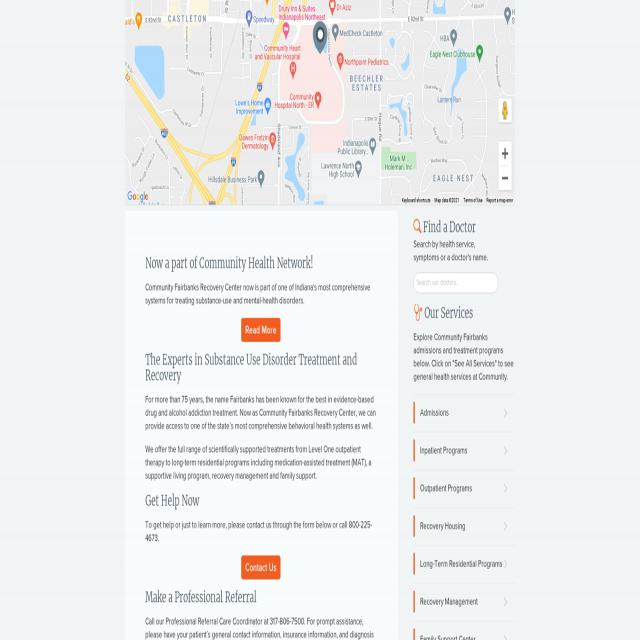button: (413, 394, 515, 432), (413, 432, 515, 470), (413, 470, 515, 508), (413, 508, 515, 546), (413, 546, 515, 584), (412, 586, 514, 624), (241, 555, 281, 580), (241, 318, 281, 342), (313, 21, 327, 55), (127, 189, 149, 204), (497, 99, 511, 122), (499, 166, 512, 190), (498, 142, 510, 163), (402, 197, 430, 203)
field: (414, 272, 498, 293)
